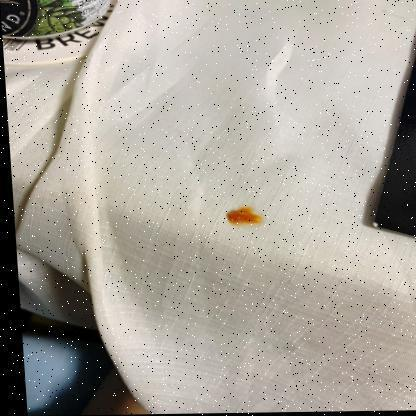kimchi: (225, 203, 269, 229)
